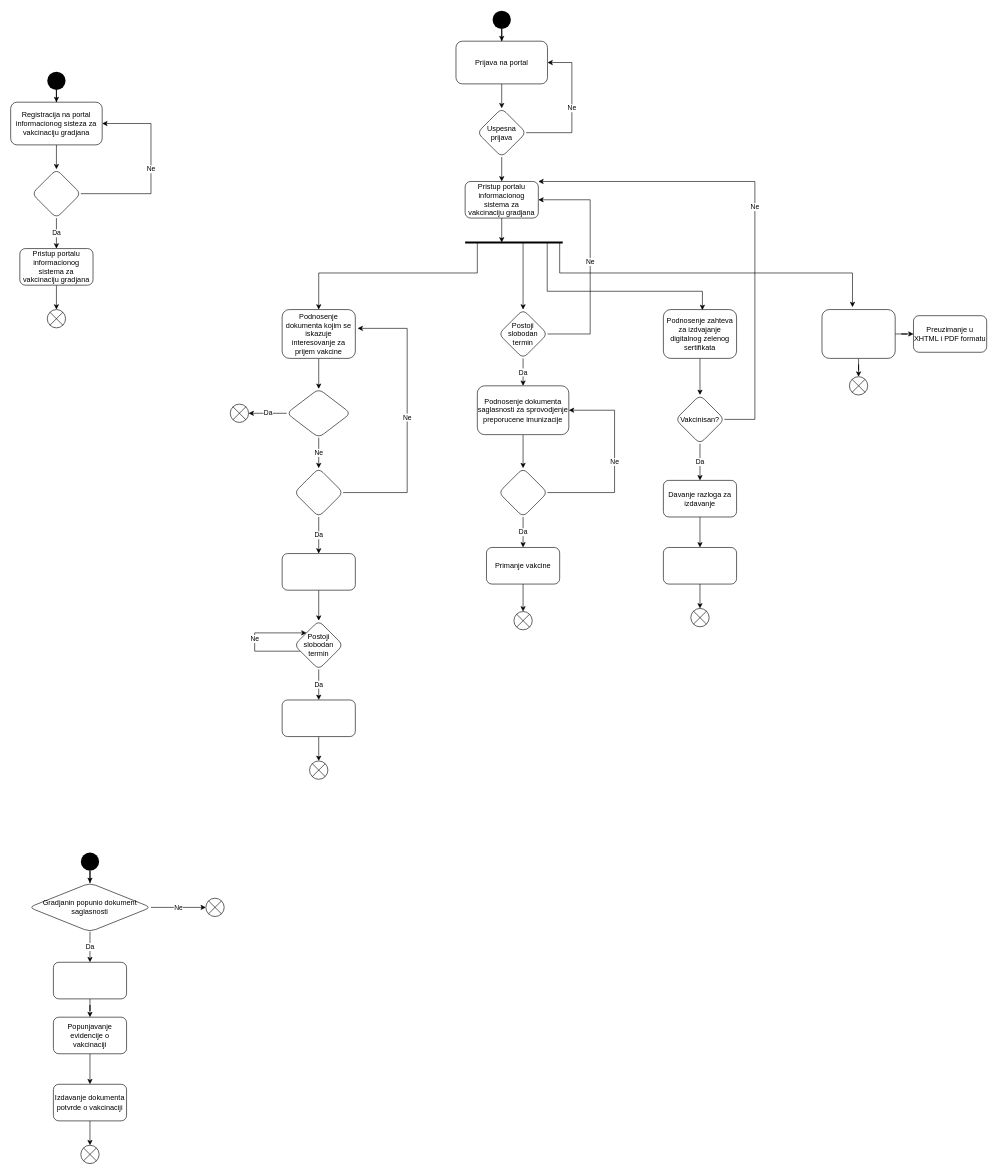
This 997x1174 diagram has some shape labels left out. The shapes that lost their labels are listed below. From the top down, each one's centre as x and y in pixels, then its label:
the point at 56,193: Uspesno registrovan
the point at 858,333: Pregled dokumenata koje su mu izdali zdravstveni radnik i sluzbenik
the point at 318,413: Ima prvu dozu
the point at 318,492: Uspesno popunjena
the point at 522,492: Uspesno
the point at 318,571: Obavestenje gradjana da je zahtev uspesno izdat
the point at 700,565: Izdavanje sertifikata
the point at 318,718: Obavestenje o slobodnom terminu
the point at 90,980: Davanje vakcine
